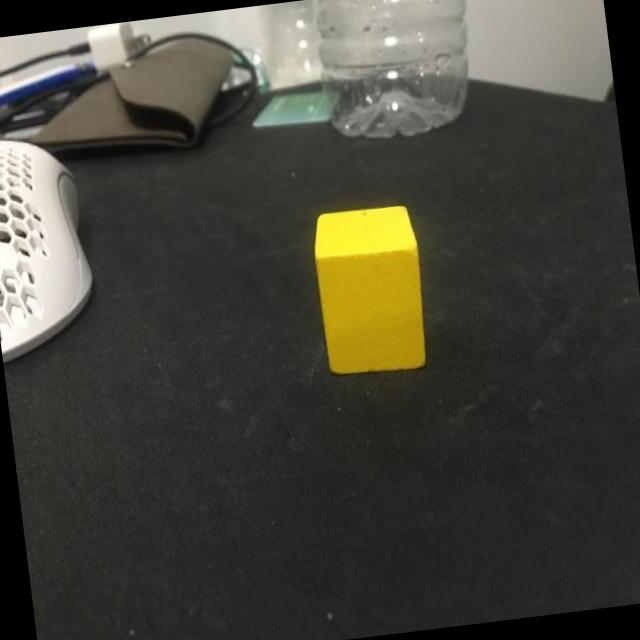yellow: (309, 202, 433, 377)
